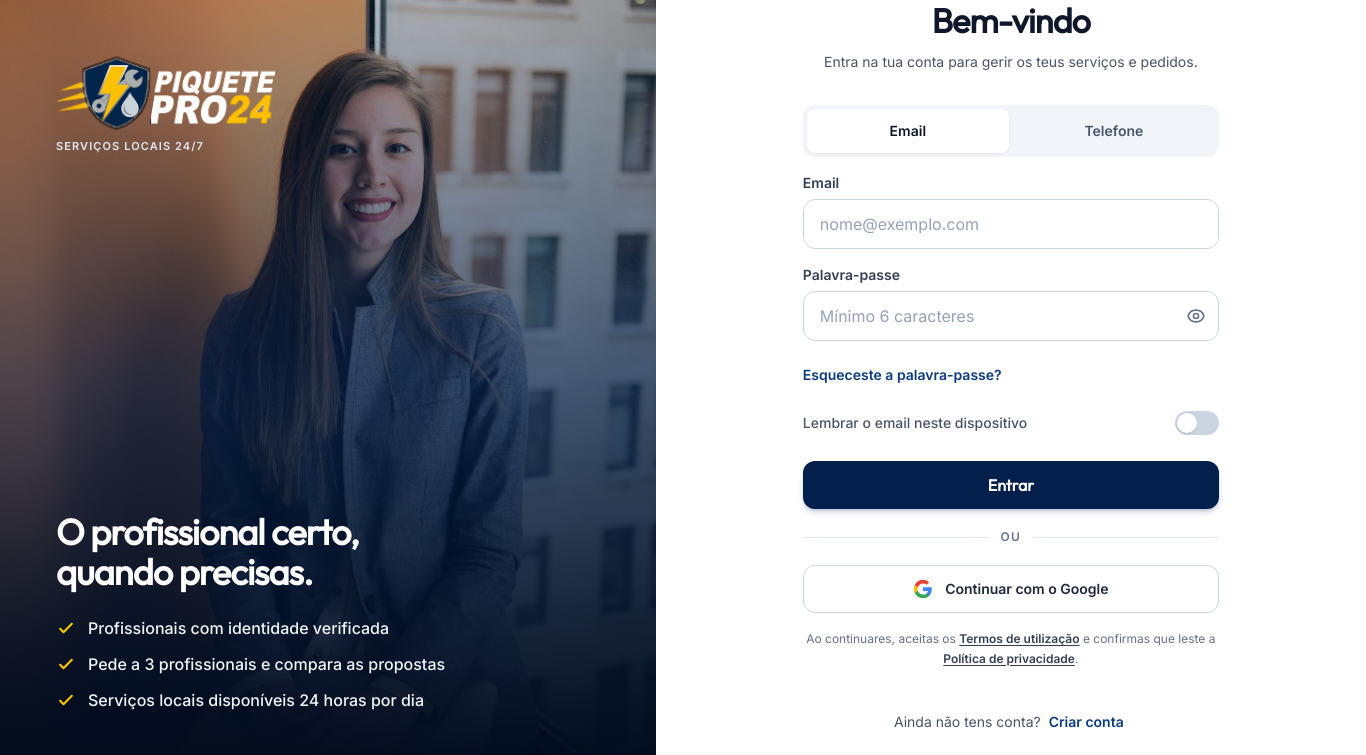
Test: Login — texto e estrutura › "Criar conta" abre o registo com a escolha de papel, e dá para voltar a "Entrar"
(page scrolled)
Click the button "Criar conta".
click(1086, 722)  # box [1045,700,1128,744]
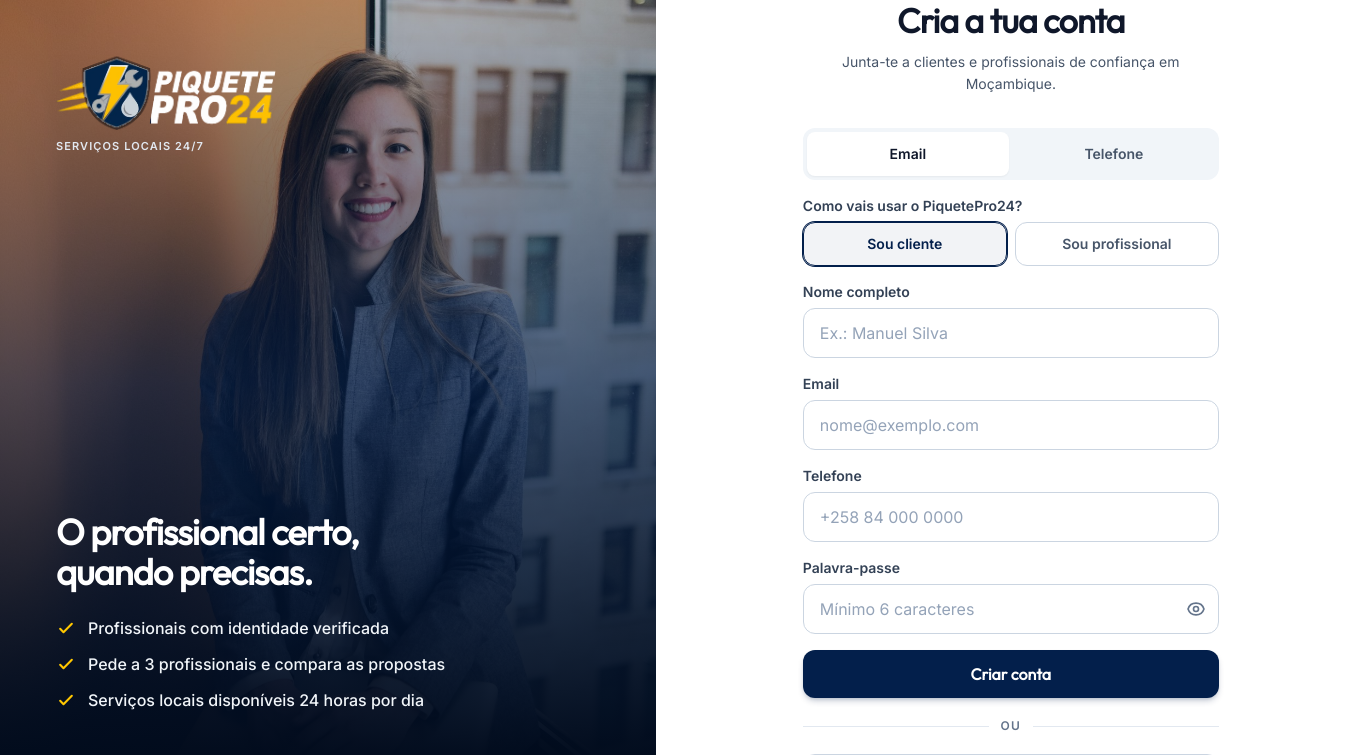
Expected: the heading "Cria a tua conta" is shown, [897,0,1124,42]
Click the radio button labelled "Sou profissional".
click(1117, 244)  # box [1015,222,1219,266]
(page scrolled)
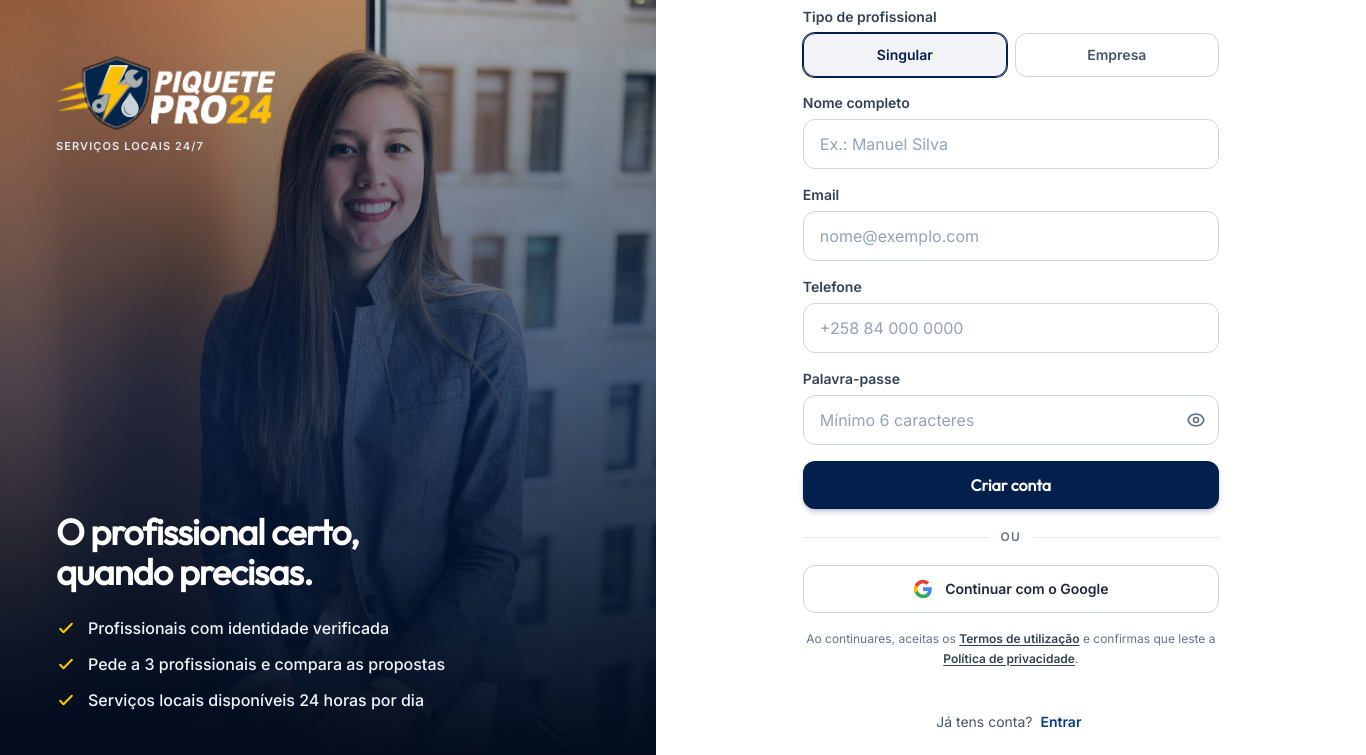
Expected: the radio button labelled "Singular" is shown, [803,33,1007,77]
Expected: the radio button labelled "Empresa" is shown, [1015,33,1219,77]
Click the button "Entrar".
click(1061, 722)  # box [1036,700,1086,744]
(page scrolled)
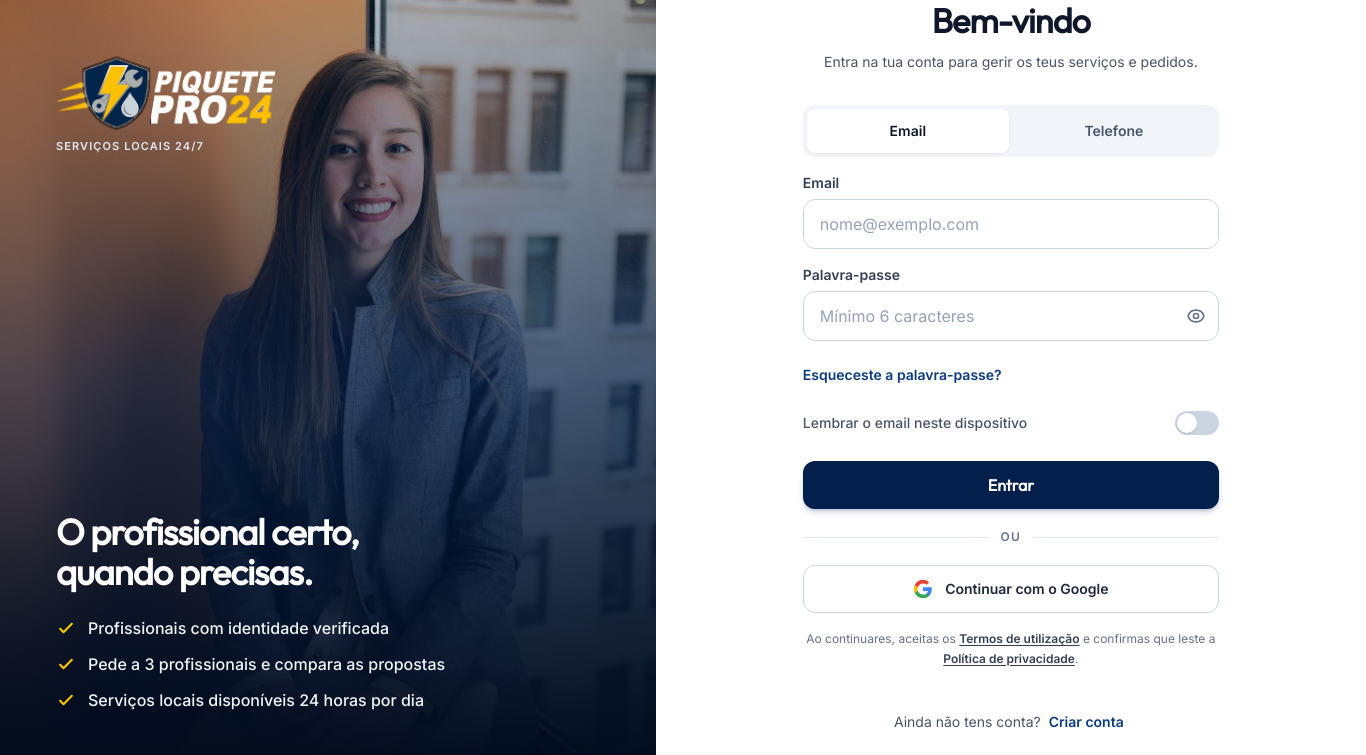
Expected: the heading "Bem-vindo" is shown, [932,0,1090,42]
